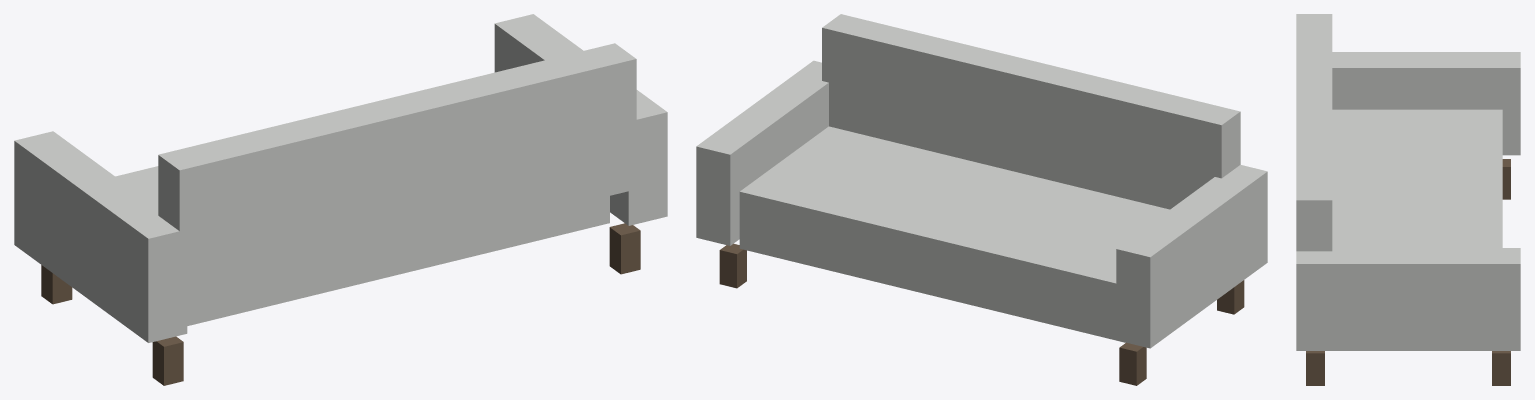
Rendered from catalog-sofa-gray-210.gltf.
The picture shows the model from 3 angles, left to right: view 1: azimuth 30°, elevation 25°; view 2: azimuth 150°, elevation 25°; view 3: azimuth 270°, elevation 25°; orthographic projection. The views are drawn at different scales.
Parts seen in each view (by area): view 1: Back, ArmL, Seat, ArmR, Leg11, Leg-11, Leg-1-1; view 2: Seat, Back, ArmL, ArmR, Leg1-1, Leg-1-1, Leg-11; view 3: Seat, ArmR, ArmL, Back, Leg1-1, Leg11, Leg-1-1.
Part boxes in pixels (x1,y1,x2,y2): Back: (158, 43, 636, 300); ArmL: (14, 131, 187, 342); Seat: (115, 166, 609, 325); ArmR: (494, 14, 667, 225); Leg11: (609, 223, 640, 274); Leg-11: (152, 336, 183, 385); Leg-1-1: (41, 265, 72, 304); Seat: (739, 126, 1169, 342); Back: (822, 14, 1240, 209); ArmL: (1116, 164, 1267, 348); ArmR: (696, 60, 828, 245); Leg1-1: (719, 243, 746, 288); Leg-1-1: (1119, 342, 1146, 385); Leg-11: (1217, 280, 1244, 314); Seat: (1332, 109, 1502, 247); ArmR: (1296, 248, 1520, 350); ArmL: (1332, 52, 1520, 155); Back: (1296, 14, 1332, 251); Leg1-1: (1492, 351, 1510, 385); Leg11: (1306, 351, 1324, 385); Leg-1-1: (1502, 159, 1510, 199).
Size of the model in its own units: 2.1 by 0.84 by 0.94.
